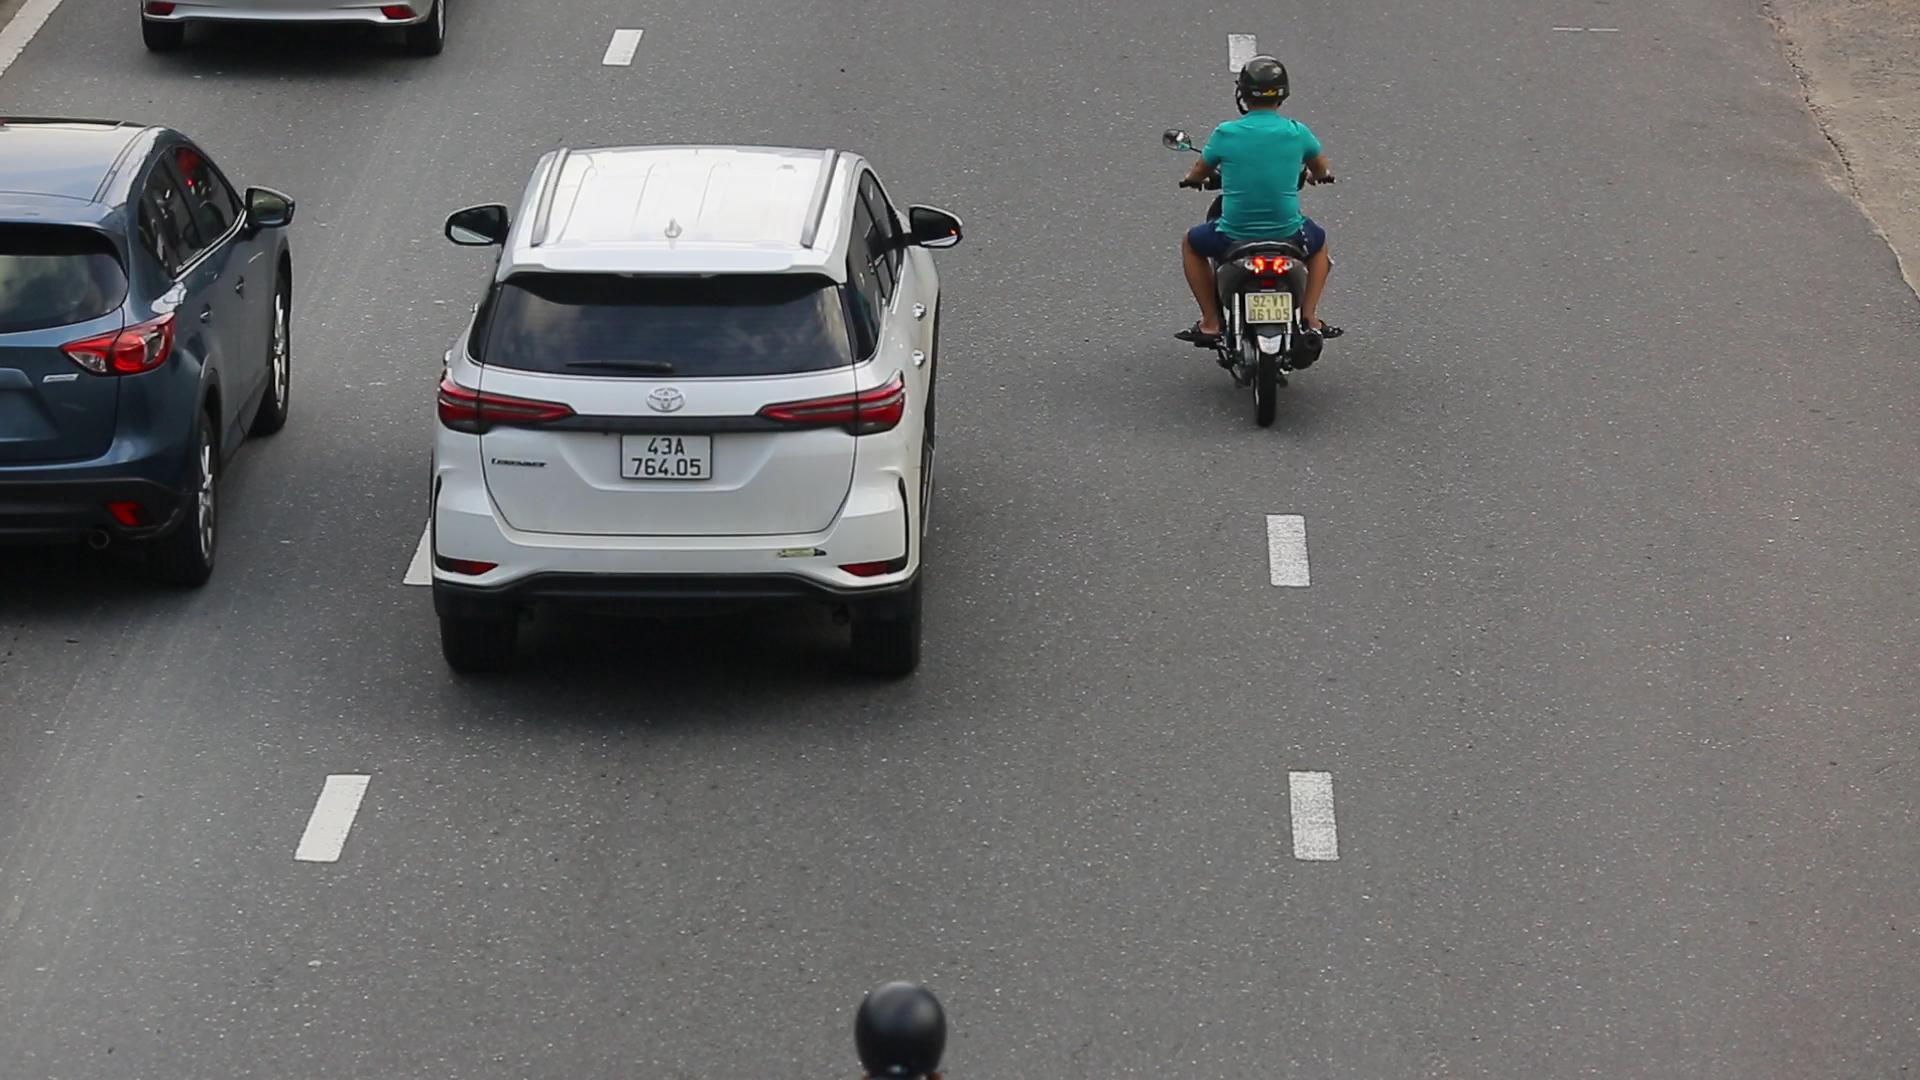motobike: (1155, 50, 1367, 431)
